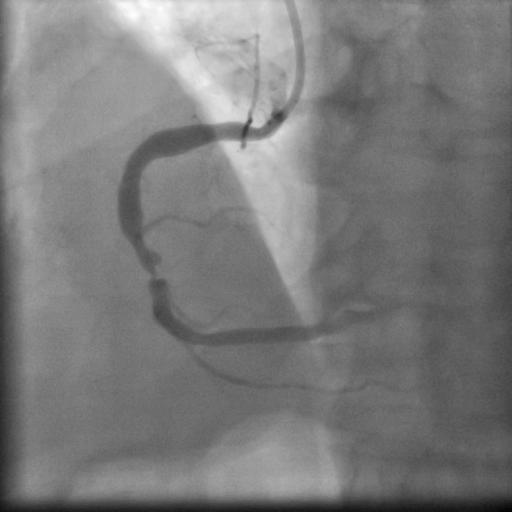Stenosis: (141, 260, 170, 288)
